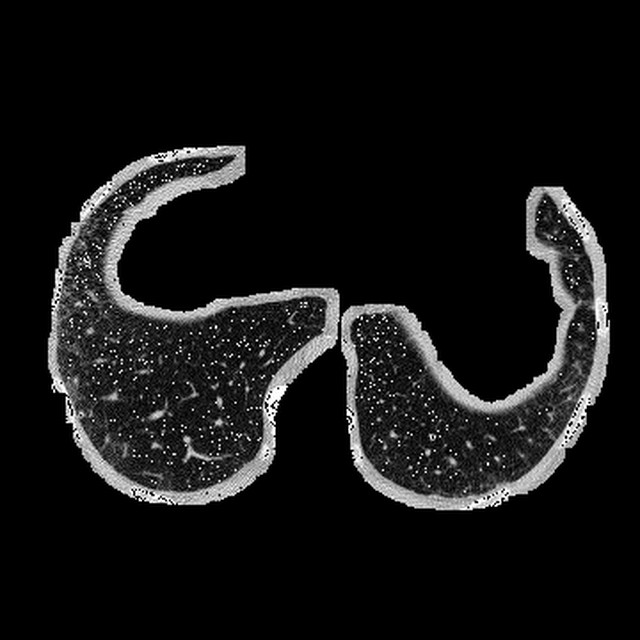PN: (84, 258, 91, 265)
